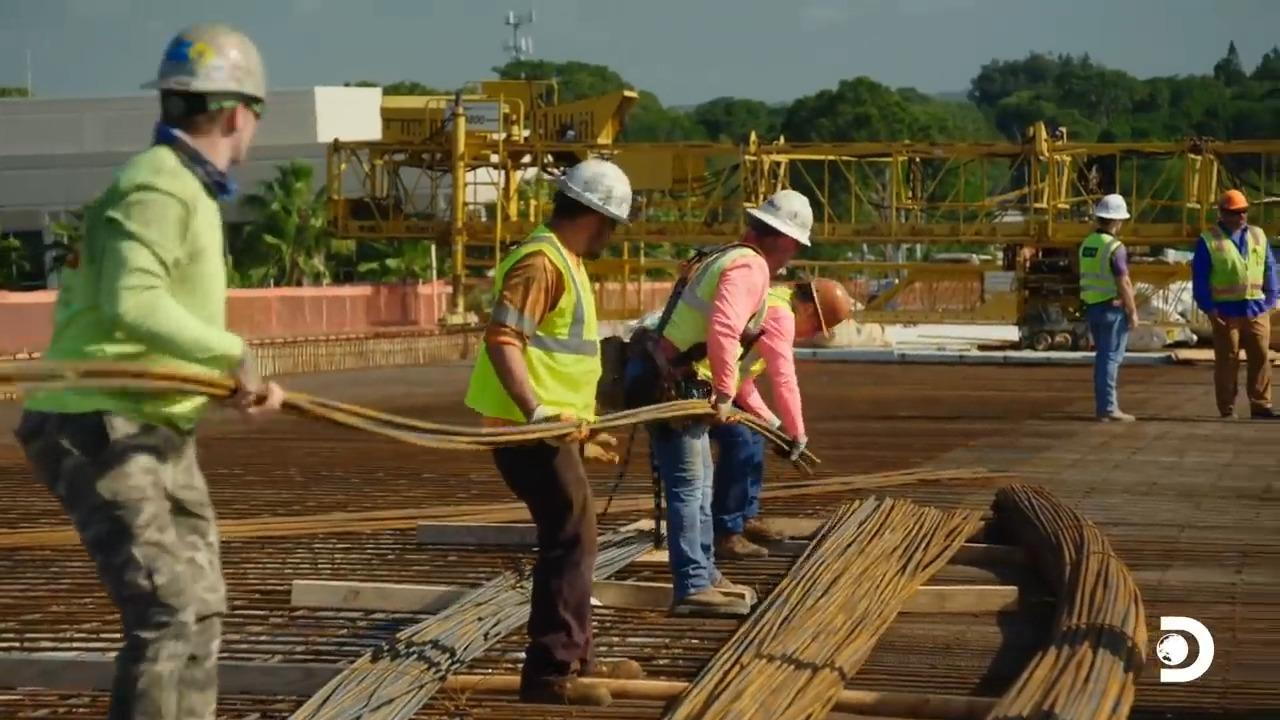Gloves: (228, 367, 283, 420), (530, 407, 591, 448), (771, 424, 807, 459), (704, 391, 739, 427)
Helmet: (139, 22, 266, 103), (556, 158, 633, 226), (744, 189, 813, 247), (808, 277, 852, 338), (1093, 193, 1130, 220), (1218, 189, 1249, 212)
Person: (13, 22, 285, 719), (463, 158, 634, 705), (638, 188, 814, 616), (1191, 188, 1279, 418), (1078, 193, 1139, 422)
Safety Boot: (520, 672, 603, 709), (676, 584, 754, 618), (589, 656, 639, 680), (744, 513, 780, 541), (717, 535, 759, 558), (1100, 408, 1129, 427), (1248, 406, 1274, 424)
Safety Vest: (497, 254, 588, 415), (671, 257, 749, 362), (1209, 234, 1259, 292), (1081, 246, 1122, 305)
bare-arms: (1123, 307, 1144, 331), (1207, 304, 1225, 328)
no-vest: (67, 181, 223, 397)
